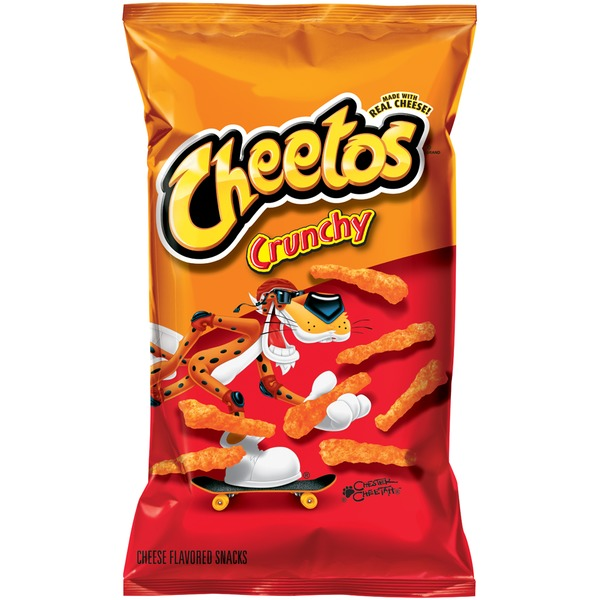cheetos: (118, 4, 477, 594)
